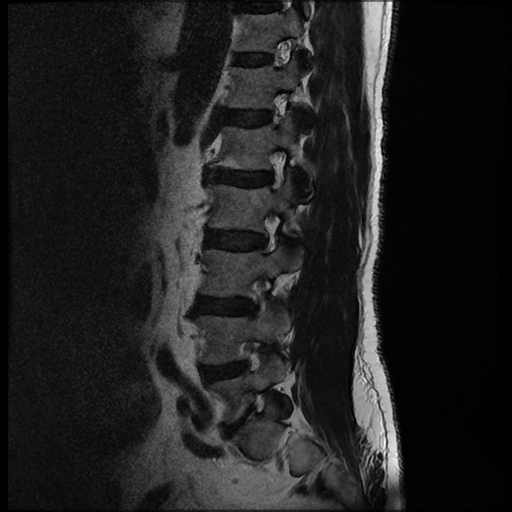LFS0: (250, 204, 287, 263), (254, 139, 290, 197)
LFS2: (243, 267, 283, 328)
